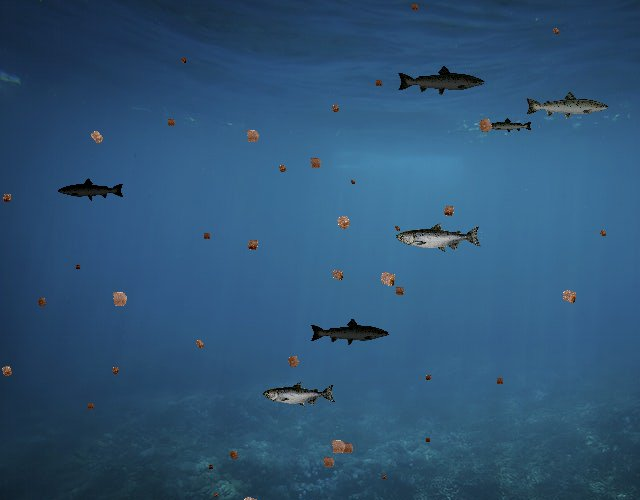Fish: (397, 64, 487, 97), (524, 90, 610, 121), (396, 222, 482, 253), (310, 317, 391, 347), (263, 382, 336, 408), (58, 178, 126, 202), (486, 118, 533, 135)
Pellet: (104, 284, 134, 314), (239, 123, 266, 150), (242, 234, 264, 256), (0, 360, 18, 382), (391, 282, 408, 300), (372, 76, 386, 90), (422, 371, 435, 384), (177, 54, 190, 67), (210, 490, 220, 500)
